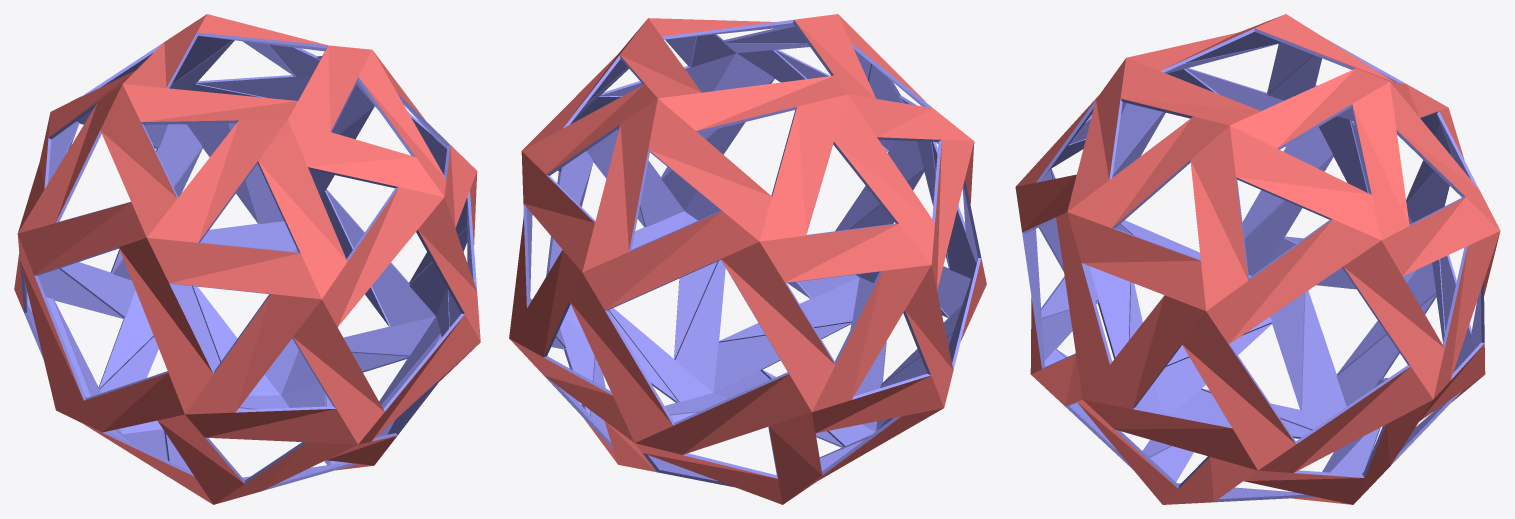
The model's file is SnubCube.glb.
The picture shows the model from 3 angles, left to right: view 1: azimuth 30°, elevation 25°; view 2: azimuth 150°, elevation 25°; view 3: azimuth 270°, elevation 25°; orthographic projection. The views are drawn at different scales.
Visible parts, largest first — view 1: root; view 2: root; view 3: root.
Part boxes in pixels (x1=…): root: x1=14, y1=14, x2=480, y2=504; root: x1=509, y1=14, x2=986, y2=504; root: x1=1015, y1=14, x2=1500, y2=504.
Bounding box in the file's own units: 7.63 × 6.86 × 7.63.
